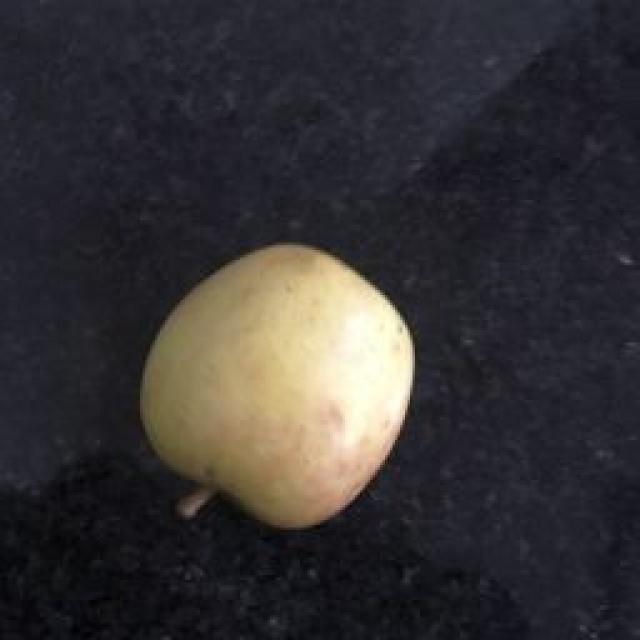Good_Apple: (138, 245, 418, 532)
